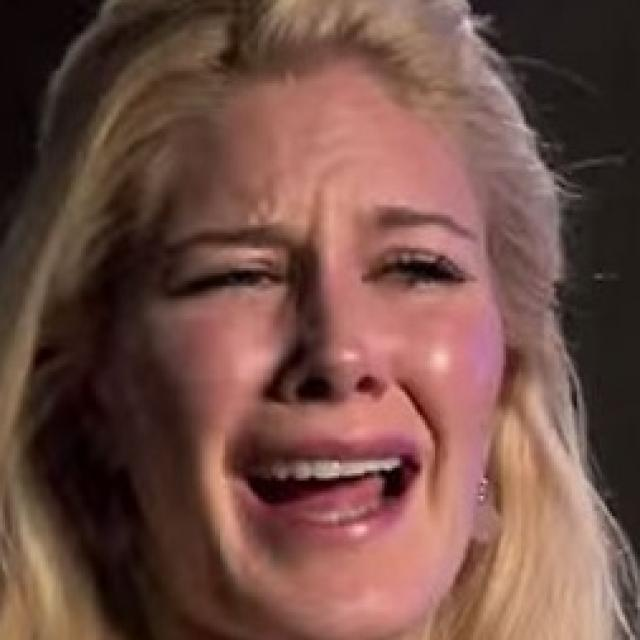Depress: (99, 51, 508, 637)
